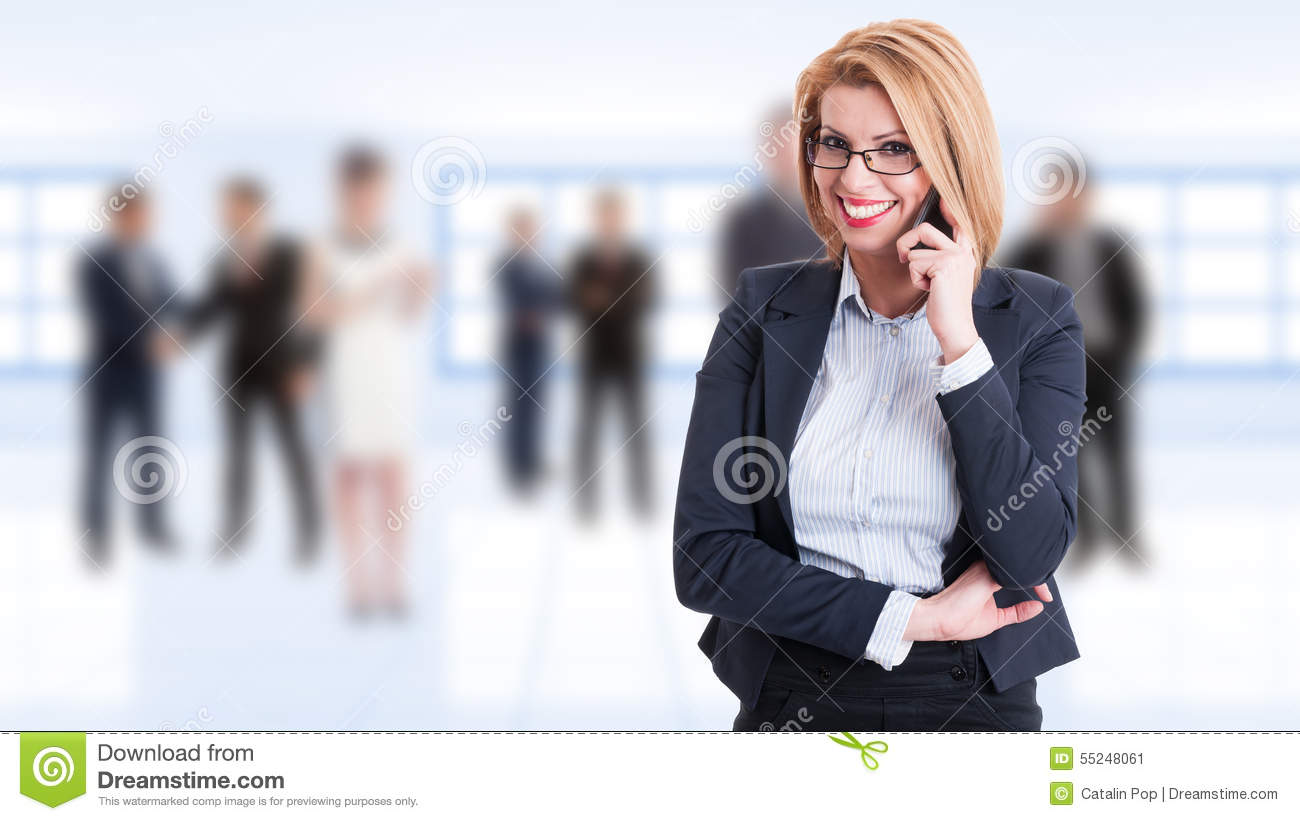phone: (911, 167, 951, 266)
talk: (806, 118, 978, 354)
